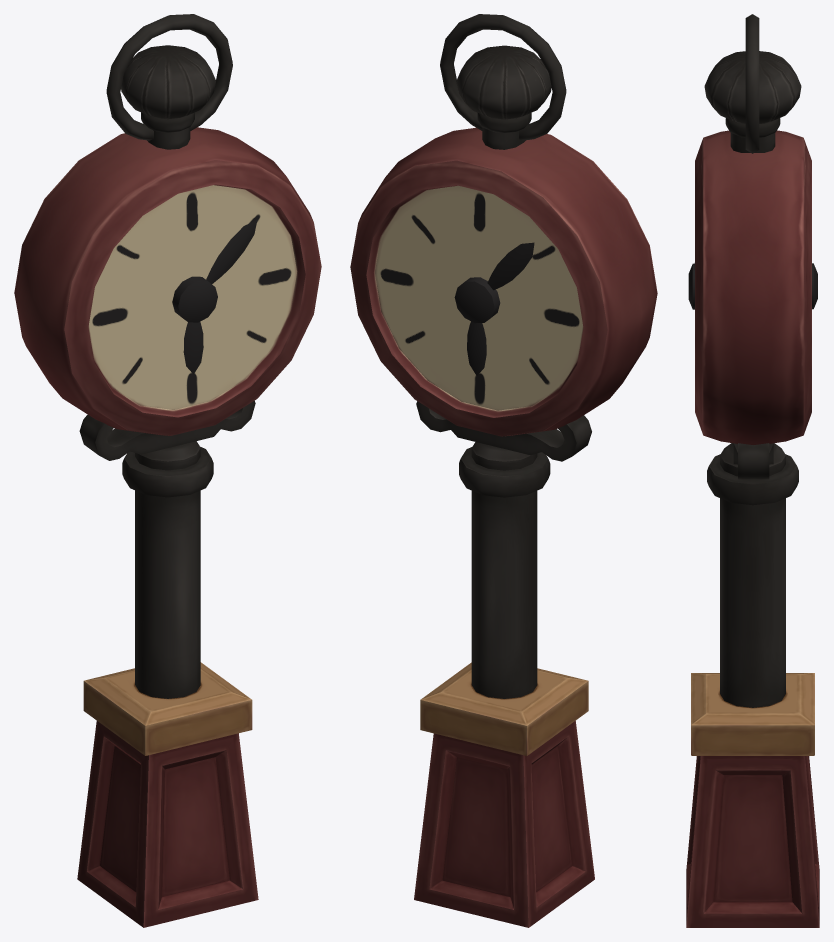
The model's file is Clocktower.fbx.
The picture shows the model from 3 angles, left to right: view 1: azimuth 30°, elevation 25°; view 2: azimuth 150°, elevation 25°; view 3: azimuth 270°, elevation 25°; orthographic projection.
Parts seen in each view (by area): view 1: Box010, Clock_Hour, Clock_minute; view 2: Box010, Clock_Hour001, Clock_minute001; view 3: Box010.
Boxes of the visible parts, x1,y1,x2,y2 form: Box010: (14, 14, 321, 927); Clock_Hour: (206, 219, 257, 283); Clock_minute: (183, 322, 203, 374); Box010: (350, 14, 657, 927); Clock_Hour001: (487, 242, 534, 290); Clock_minute001: (467, 321, 486, 375); Box010: (686, 14, 819, 927).
Bounding box in the file's own units: 258 × 780 × 107.
